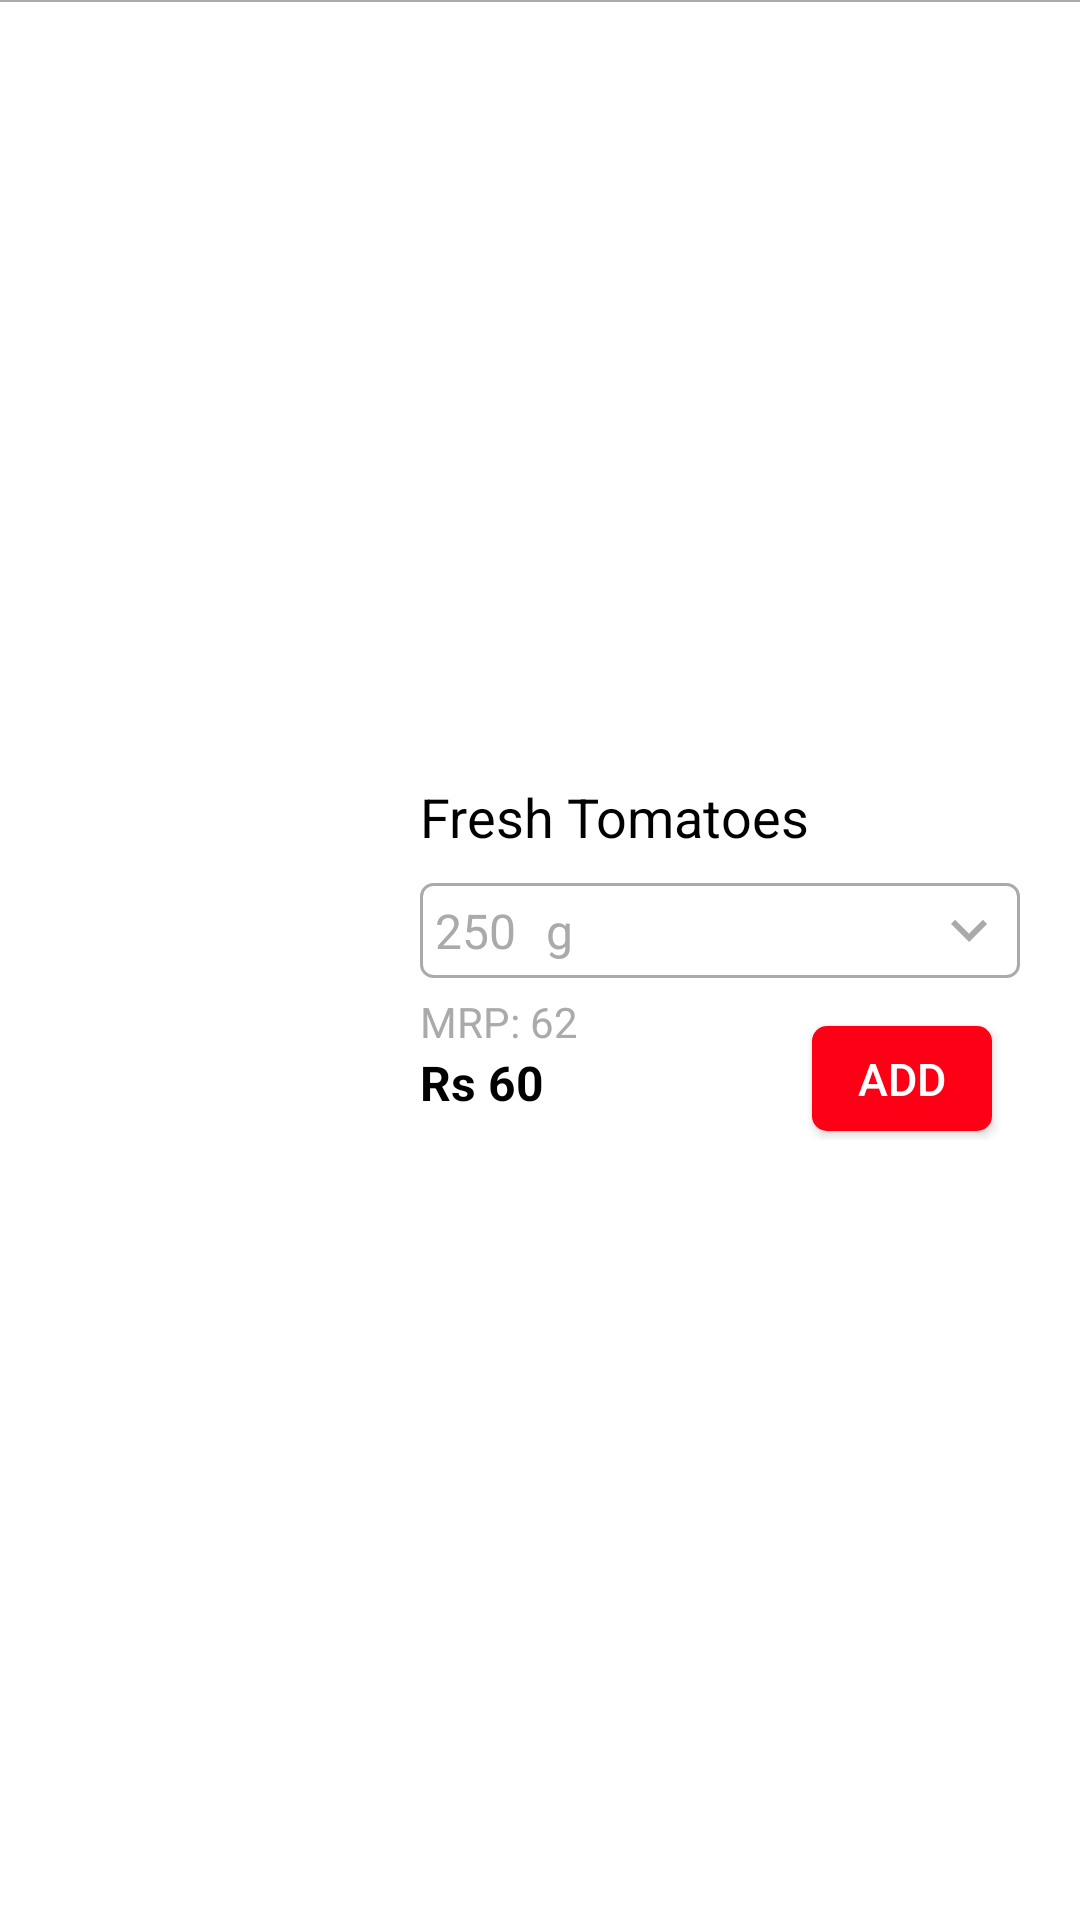

Icon click points for this 1080x1920 phone screenshot, format (x=x, y=y):
keyboard arrow down: (x=969, y=931)
